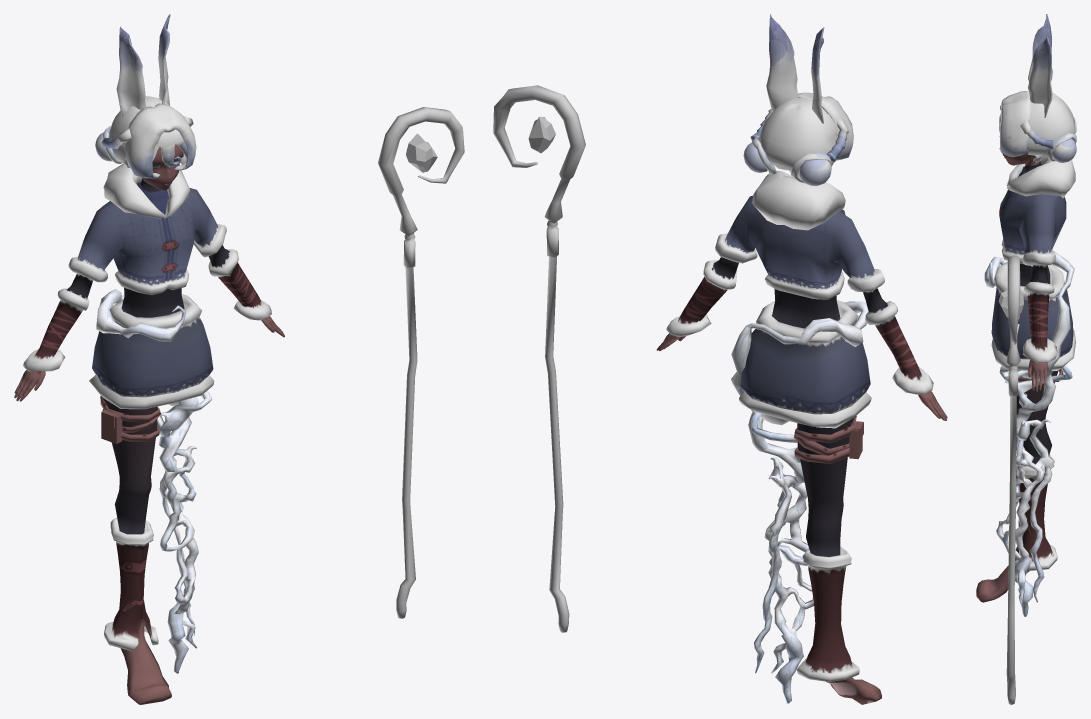
Rendered from Character Model.fbx.
3 renders of one model, left to right at view 1: azimuth 30°, elevation 25°; view 2: azimuth 150°, elevation 25°; view 3: azimuth 270°, elevation 25°, orthographic. The views are drawn at different scales.
Visible parts, largest first — view 1: Cube, Wood Leg, Staff Decor; view 2: Cube, Wood Leg, Staff Decor; view 3: Cube, Wood Leg, Staff Decor.
Part boxes in pixels (left/top/right/bottom): Cube: left=14, top=14, right=284, bottom=704; Wood Leg: left=96, top=289, right=212, bottom=673; Staff Decor: left=378, top=107, right=464, bottom=618; Cube: left=656, top=14, right=947, bottom=704; Wood Leg: left=731, top=301, right=868, bottom=703; Staff Decor: left=493, top=85, right=585, bottom=632; Cube: left=976, top=14, right=1076, bottom=602; Wood Leg: left=984, top=250, right=1074, bottom=616; Staff Decor: left=998, top=255, right=1023, bottom=704.
Size of the model in its own units: 4.53 by 6.47 by 1.01.
